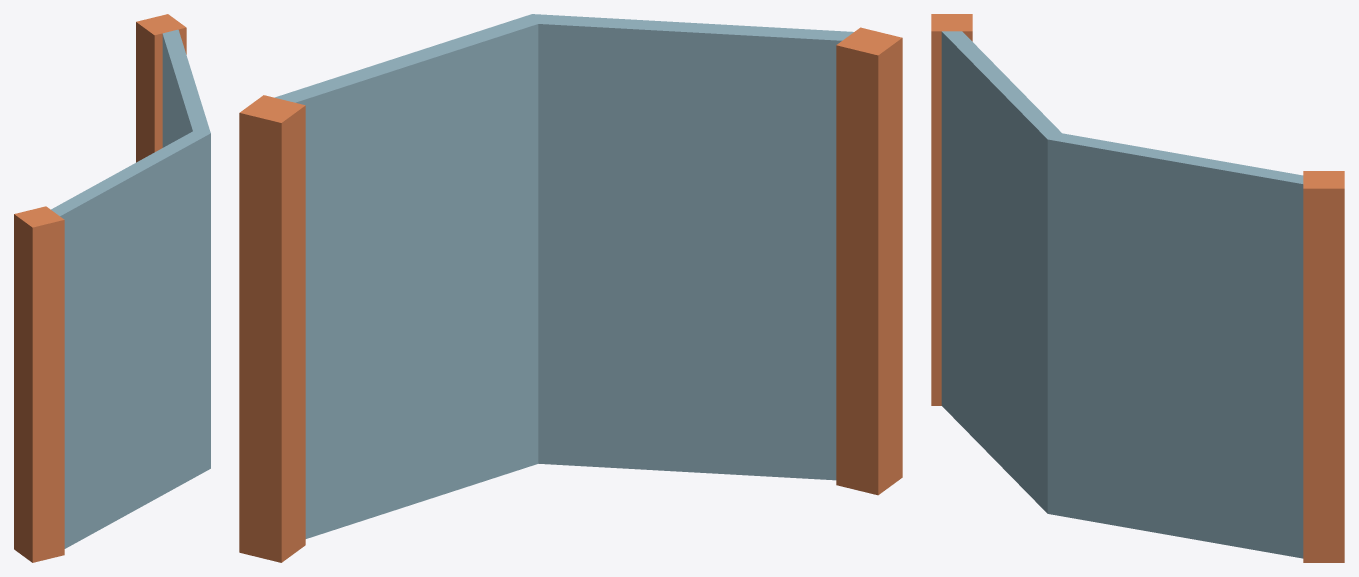
Rendered from wallCornerEdge.fbx.
3 renders of one model, left to right at view 1: azimuth 30°, elevation 25°; view 2: azimuth 150°, elevation 25°; view 3: azimuth 270°, elevation 25°, orthographic. The views are drawn at different scales.
Visible parts, largest first — view 1: wallCornerEdge; view 2: wallCornerEdge; view 3: wallCornerEdge.
Part boxes in pixels (x1,y1,x2,y2): wallCornerEdge: (14, 14, 210, 562); wallCornerEdge: (239, 14, 902, 562); wallCornerEdge: (931, 14, 1344, 562).
Size of the model in its own units: 10 by 10 by 10.
